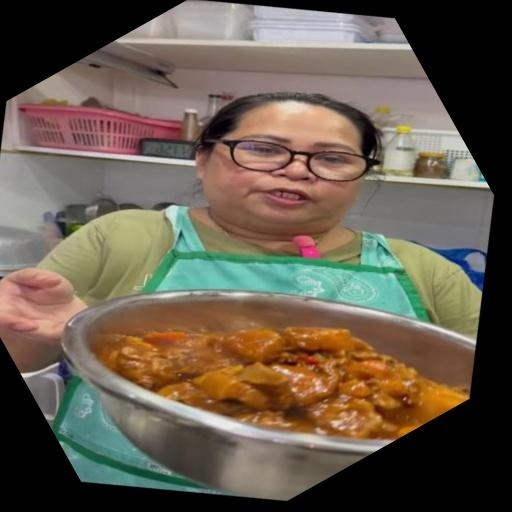pork caldereta: (116, 322, 471, 441)
